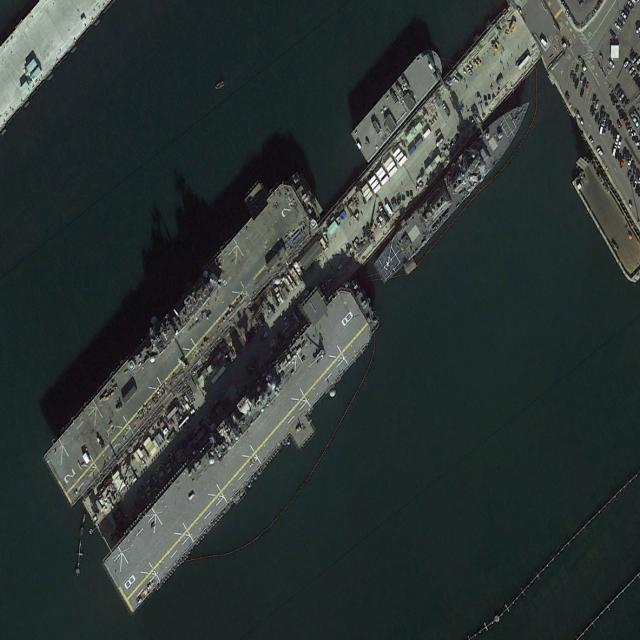Destroyer: (371, 86, 539, 290)
Landing: (93, 256, 393, 634), (31, 145, 328, 508)
